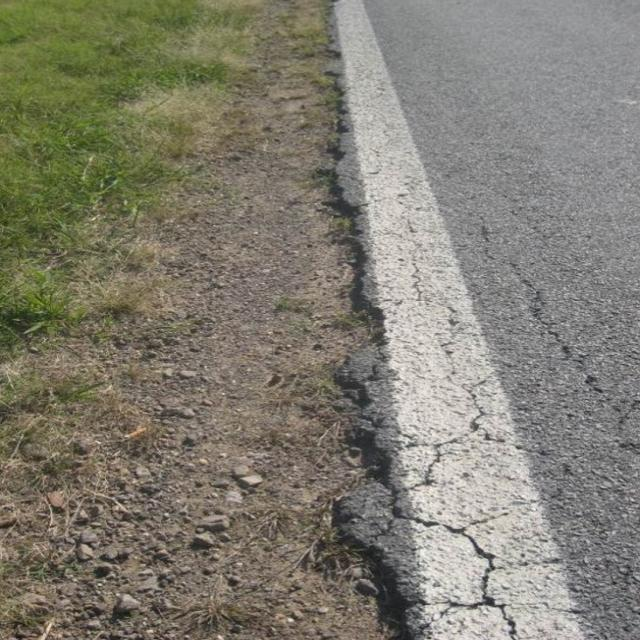Pothole: (56, 18, 640, 640)
